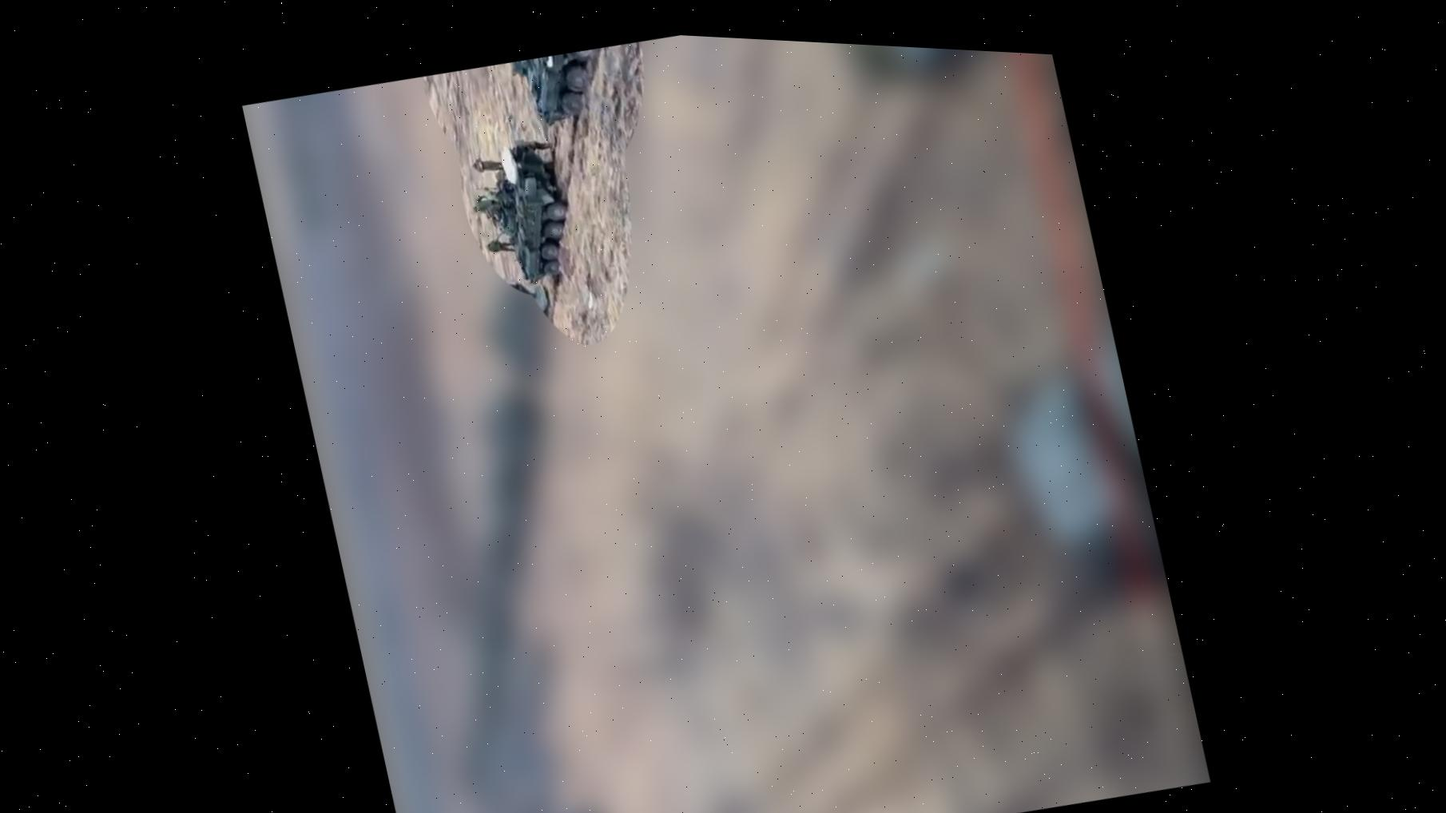armored_car: (461, 122, 580, 291), (495, 42, 618, 138)
